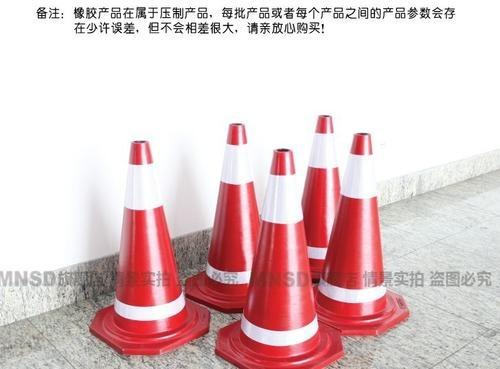cone_barrel: (92, 137, 195, 351), (235, 150, 324, 365), (311, 128, 398, 339), (193, 125, 262, 308), (296, 116, 342, 256)
